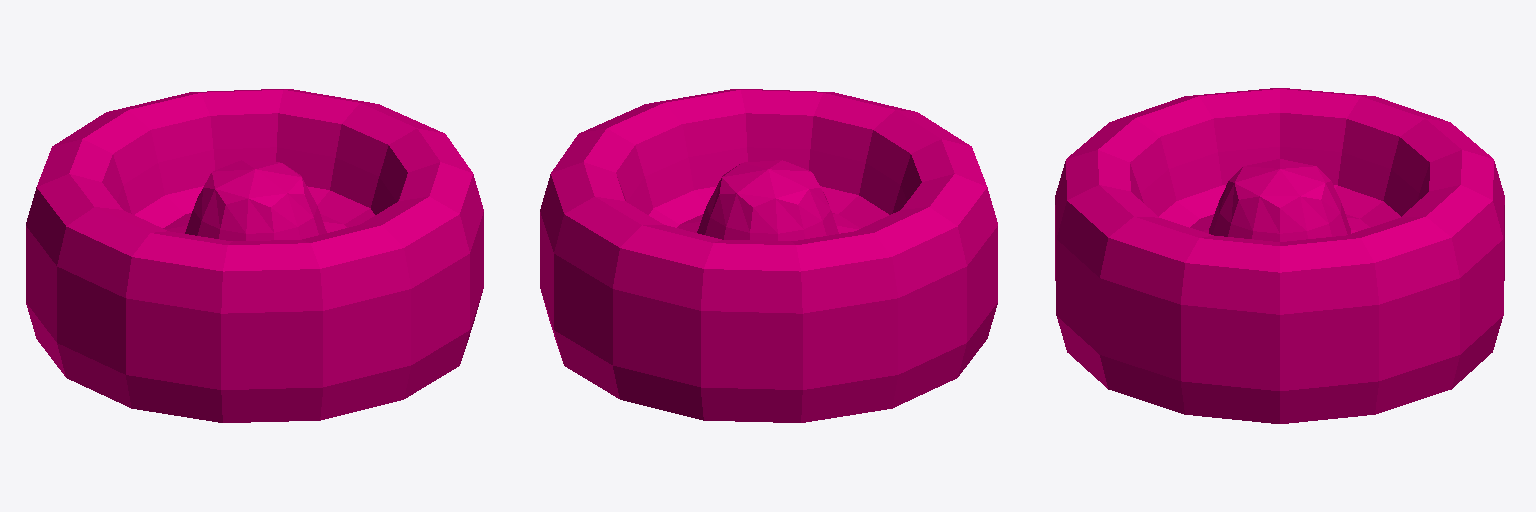
The model's file is duck.obj.
3 renders of one model, left to right at view 1: azimuth 30°, elevation 25°; view 2: azimuth 150°, elevation 25°; view 3: azimuth 270°, elevation 25°, orthographic.
Visible parts, largest first — view 1: cylinder1; view 2: cylinder1; view 3: cylinder1.
Part boxes in pixels (x1,y1,x2,y2): cylinder1: (26, 89, 483, 422); cylinder1: (540, 89, 997, 422); cylinder1: (1055, 88, 1504, 423).
Bounding box in the file's own units: 0.0542 × 0.023 × 0.053.